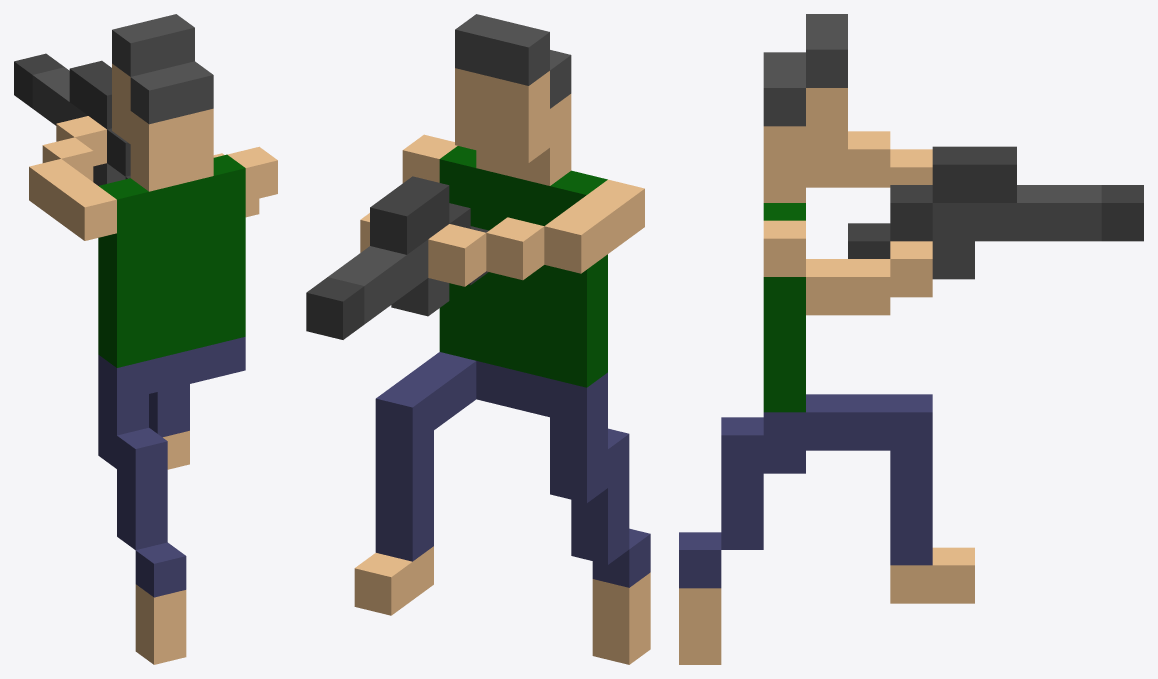
Rendered from Player-Gun-Walk-1.obj.
3 views of the same model, side by side, from view 1: azimuth 30°, elevation 25°; view 2: azimuth 150°, elevation 25°; view 3: azimuth 270°, elevation 25° (orthographic). The views are drawn at different scales.
Size of the model in its own units: 0.6 by 1.7 by 1.1.
Materials: 1 (1 with a texture image).
